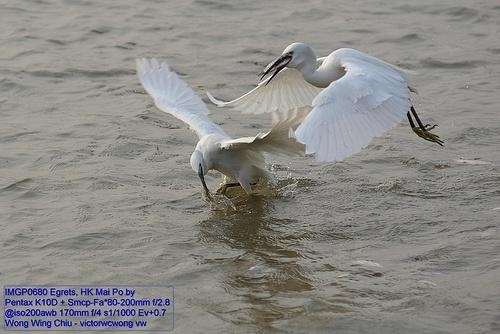bird: (135, 58, 309, 200), (262, 41, 448, 162)
